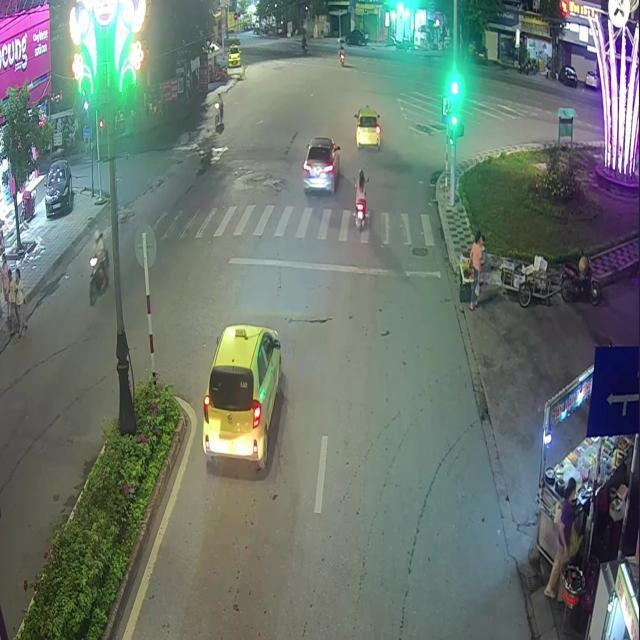car: (201, 322, 280, 469), (302, 135, 338, 192), (354, 106, 380, 147)
green_light: (450, 92, 457, 125)
motobike: (354, 198, 366, 229)
stop_line: (226, 256, 440, 277)
